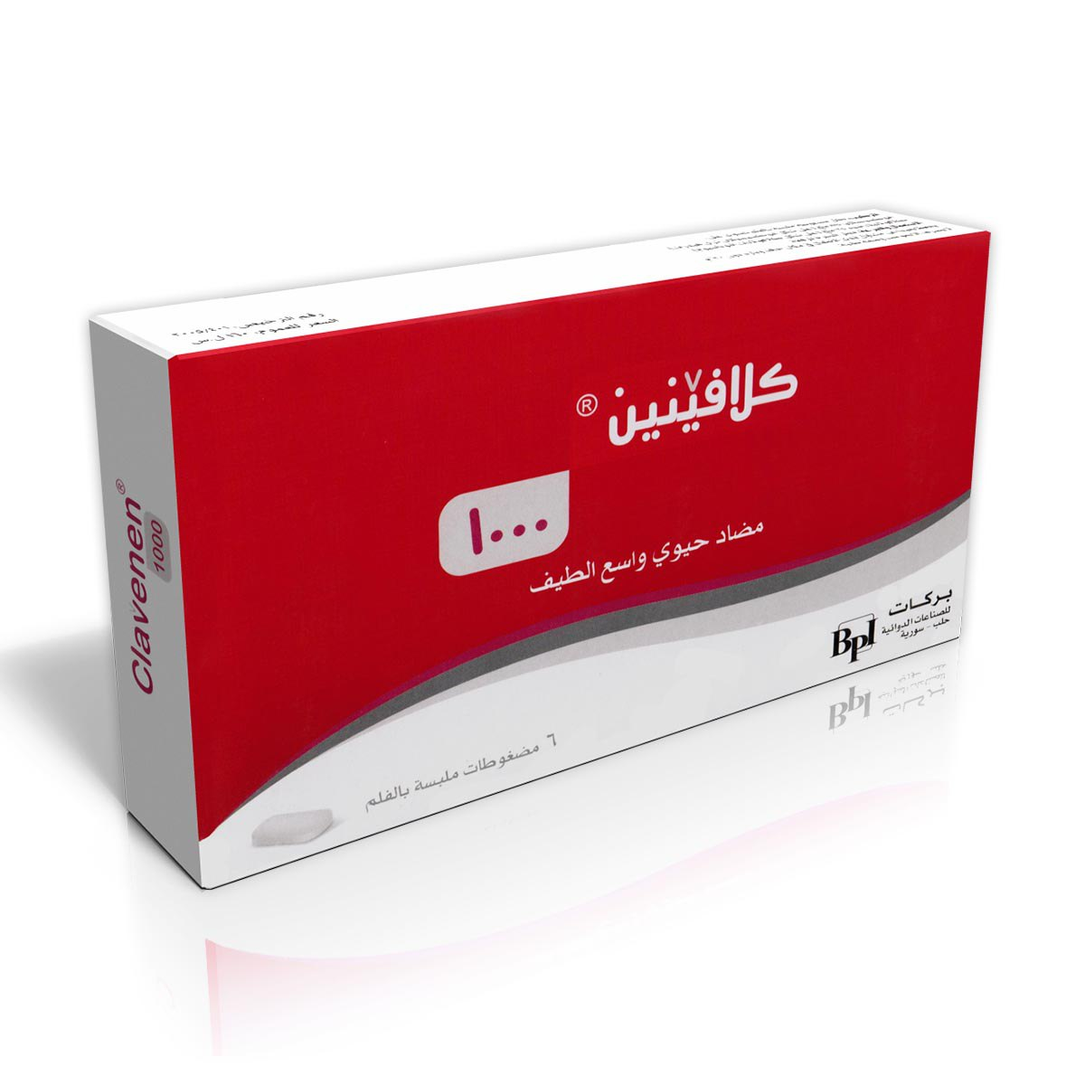Medicine: (72, 199, 1004, 907)
